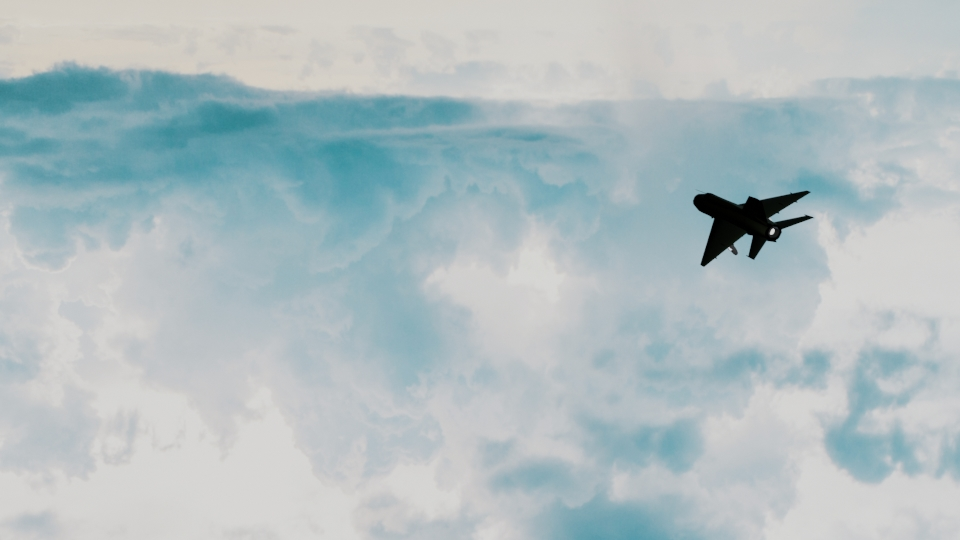plane: (690, 181, 812, 270)
